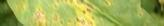Tomato Septoria leaf spot: (8, 0, 164, 26)
